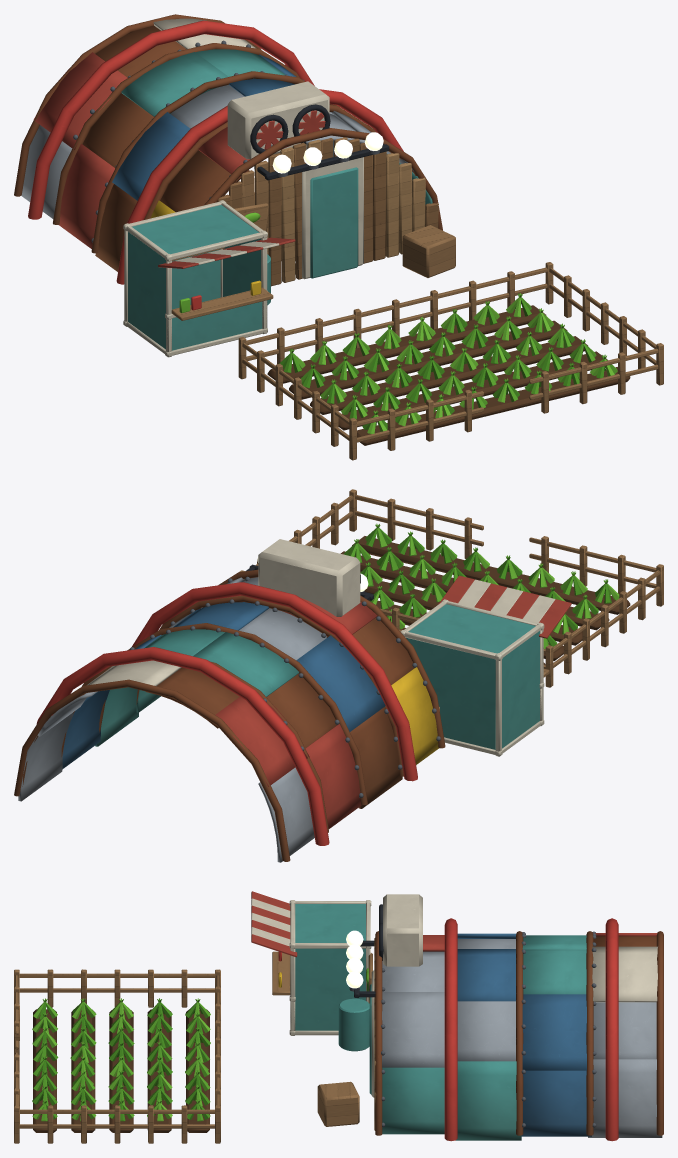
Rendered from settler_shack.glb.
3 views of the same model, one above another, from view 1: azimuth 30°, elevation 25°; view 2: azimuth 150°, elevation 25°; view 3: azimuth 270°, elevation 25° (orthographic). The views are drawn at different scales.
Parts seen in each view (by area): view 1: settler_shack; view 2: settler_shack; view 3: settler_shack.
Part boxes in pixels (<box>): settler_shack: <box>14,14,663,460</box>; settler_shack: <box>14,489,663,862</box>; settler_shack: <box>14,891,663,1143</box>.
Size of what is drawn, in the model's own units: 9.14 by 4.48 by 16.16.
Materials: 41 (40 with a texture image).
